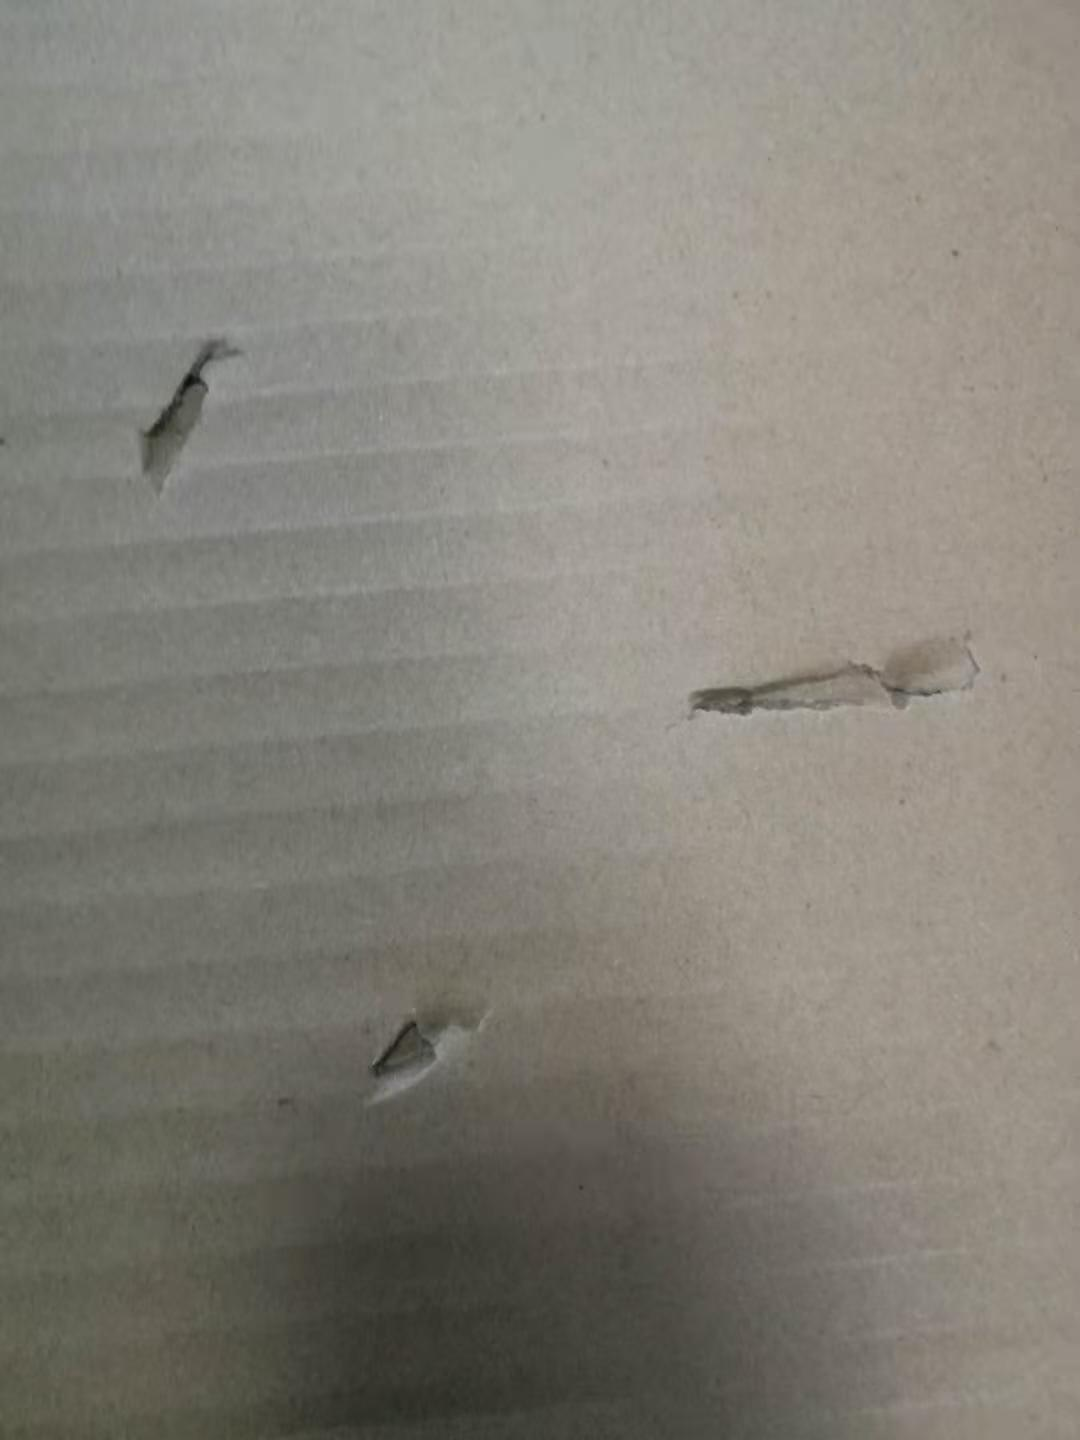defect: (659, 601, 1019, 768), (106, 293, 275, 528), (328, 964, 535, 1142)
